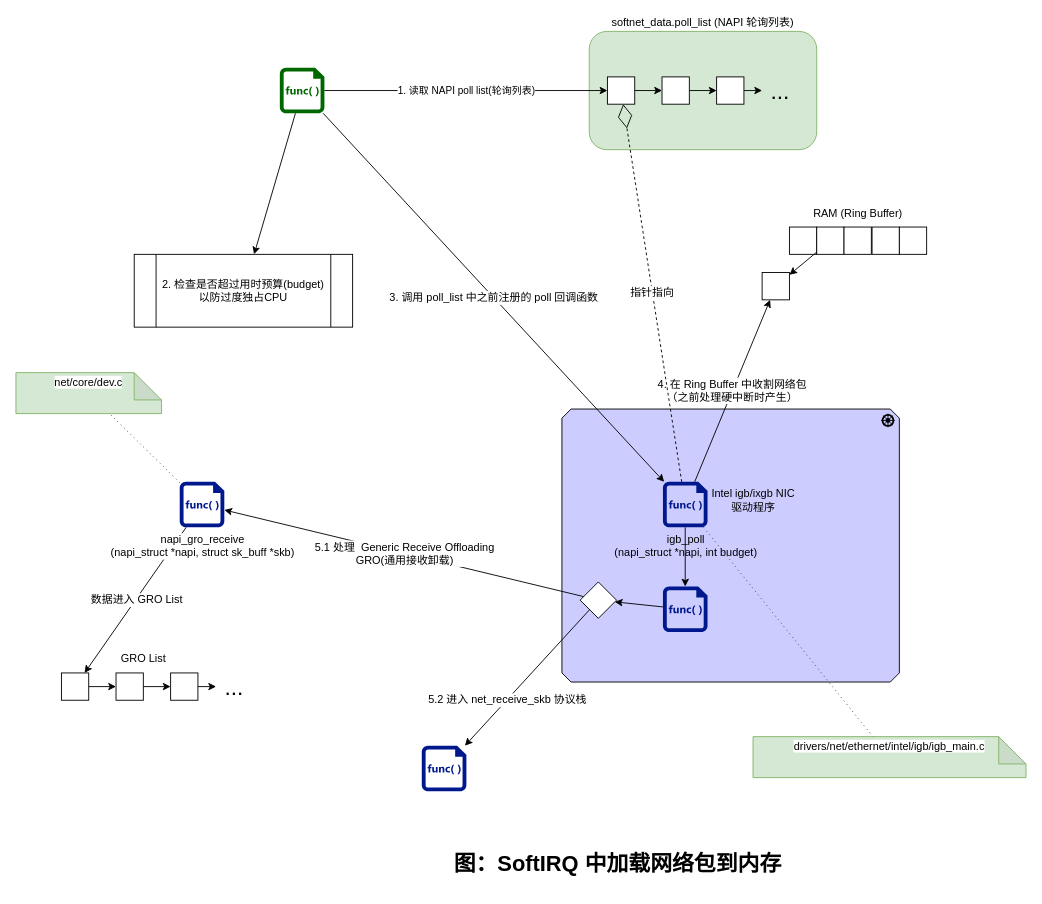
The diagram is 1042 pixels wide and 904 high, and some of its shapes have lost their labels. The shapes that lost their labels are listed below. From the top down, each one's centre as x and y in pixels, then its label:
At pixel 301 90: "net_tx_action(struct softirq_action *h)".
At pixel 775 286: "packet".
At pixel 684 609: "igb_clean_rx_irq (struct igb_q_vector *q_vector, const int budget)".
At pixel 443 768: "netif_receive_skb(struct sk_buff *skb)".
